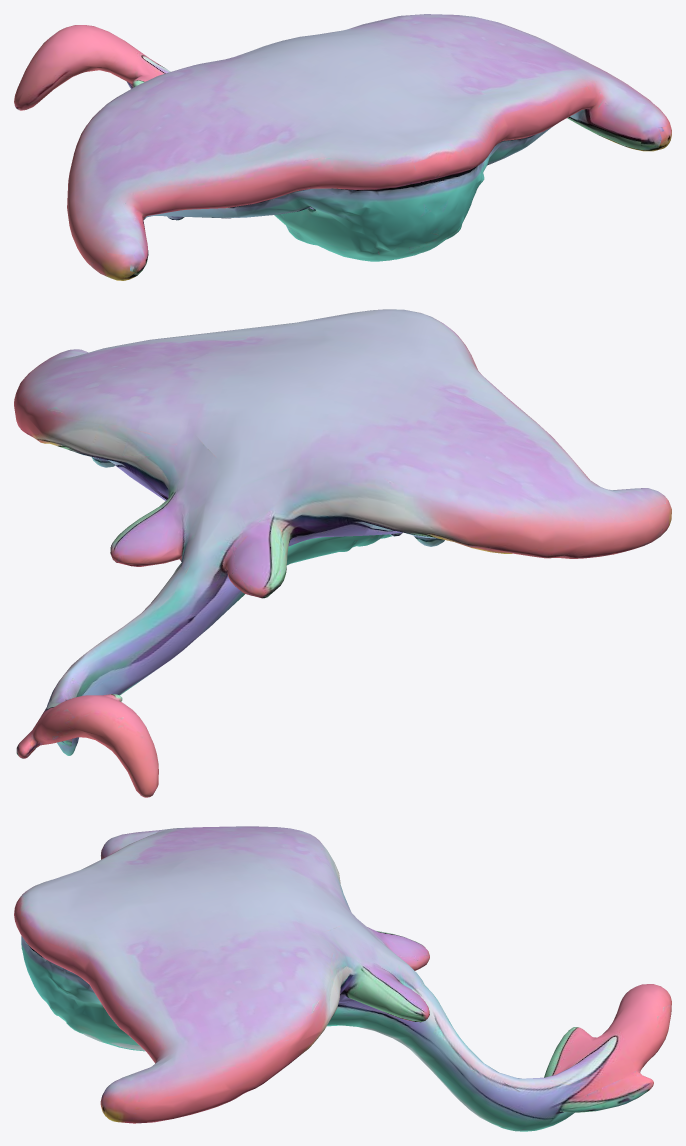
Rendered from stingray.glb.
The picture shows the model from 3 angles, top to bottom: view 1: azimuth 30°, elevation 25°; view 2: azimuth 150°, elevation 25°; view 3: azimuth 270°, elevation 25°; orthographic projection. The views are drawn at different scales.
Parts seen in each view (by area): view 1: Mesh_0; view 2: Mesh_0; view 3: Mesh_0.
Part boxes in pixels (x1=…): Mesh_0: x1=14, y1=14, x2=671, y2=280; Mesh_0: x1=14, y1=309, x2=671, y2=797; Mesh_0: x1=14, y1=826, x2=671, y2=1131.
Size of the model in its own units: 1.82 by 0.7025 by 1.9.
1 material, 1 textured.
